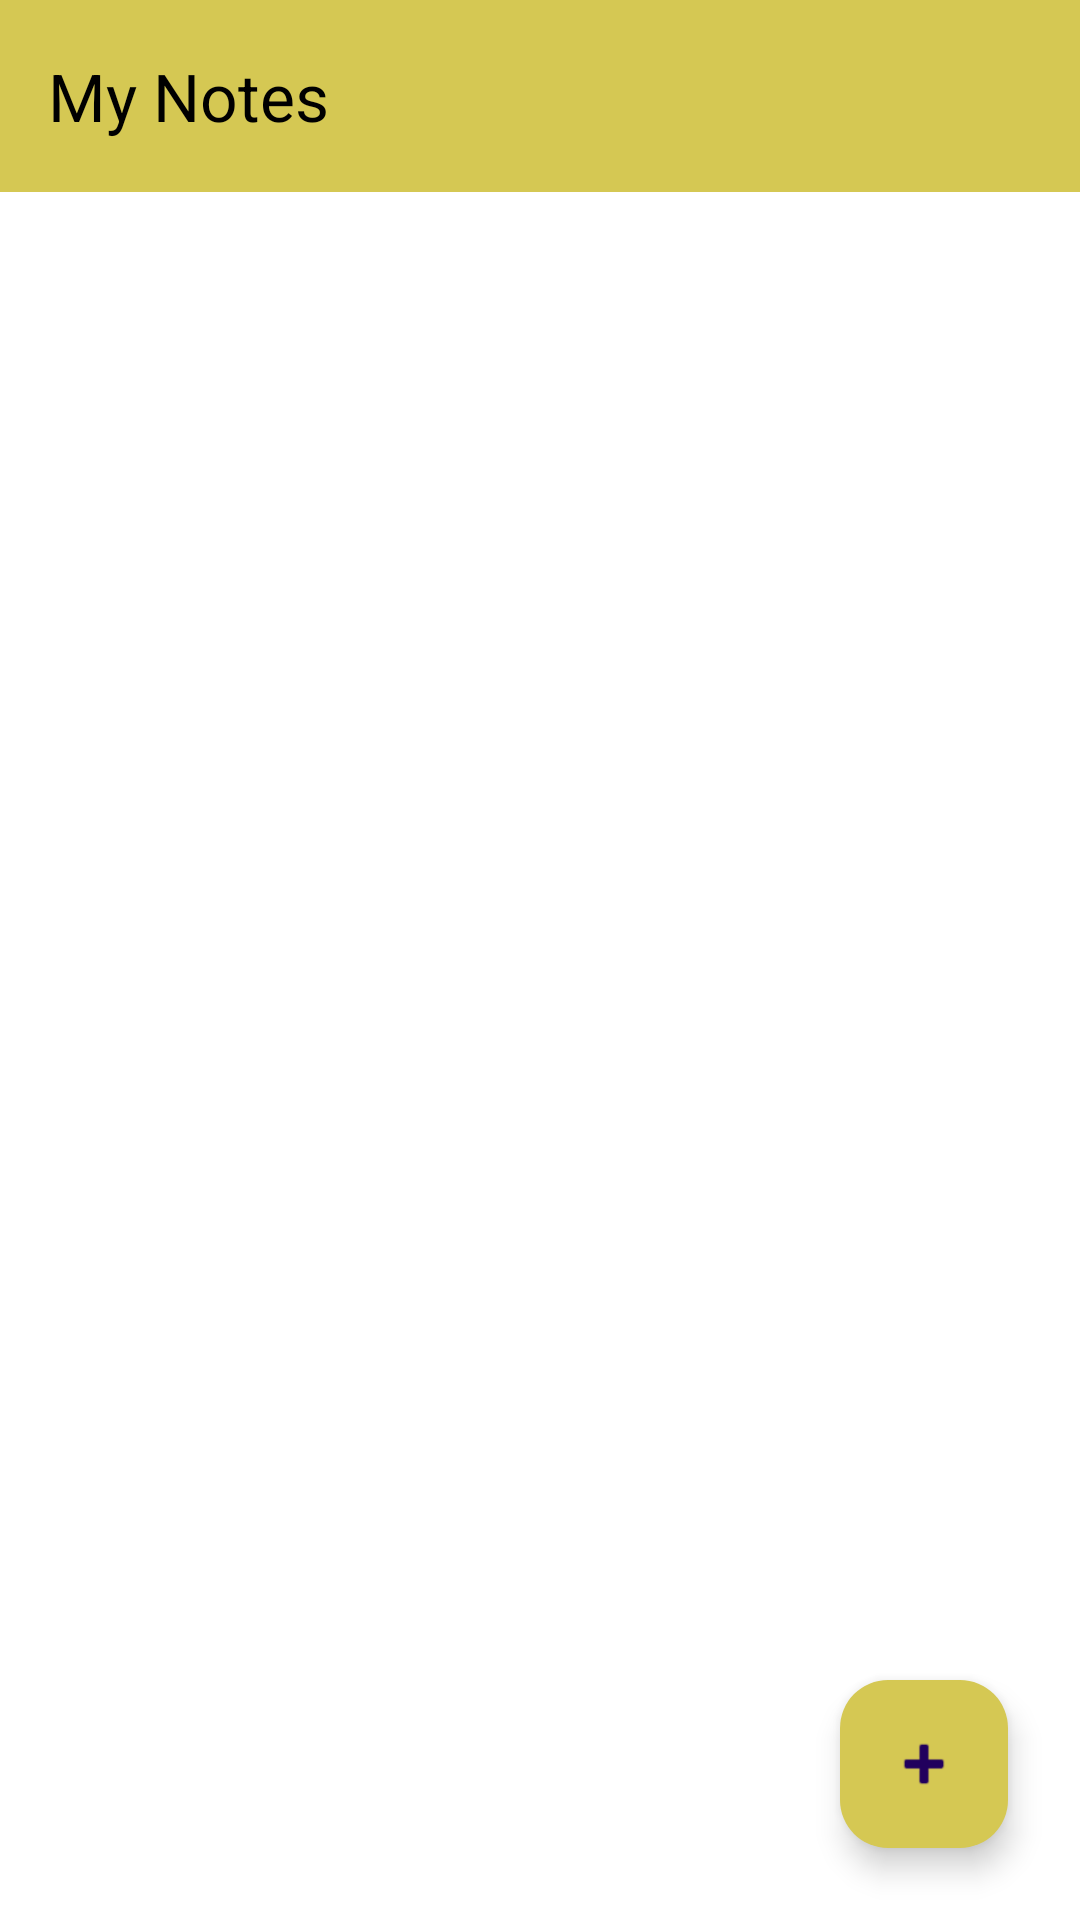

Where to tap for icons on this 1080 × 1920 app screen, as (x,y):
Add New Note: (924,1764)
